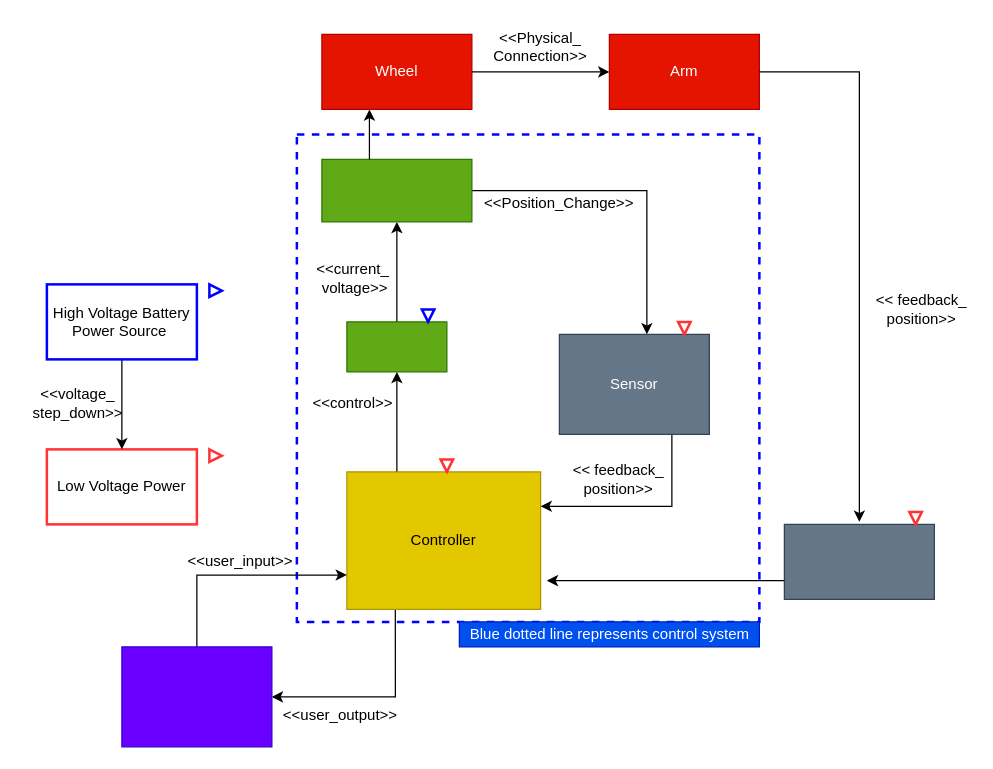
Image size: 993x769. Some labels were removed from this diagram. The shapes that lost their labels are listed below. From the top down, each one's box as (x1, y1, x2, y2) in pixels, then its label:
(321, 158, 472, 222): Actuator/Motor
(346, 321, 447, 372): Driver
(783, 523, 934, 599): Rotational Sensor
(121, 646, 272, 747): HMI
